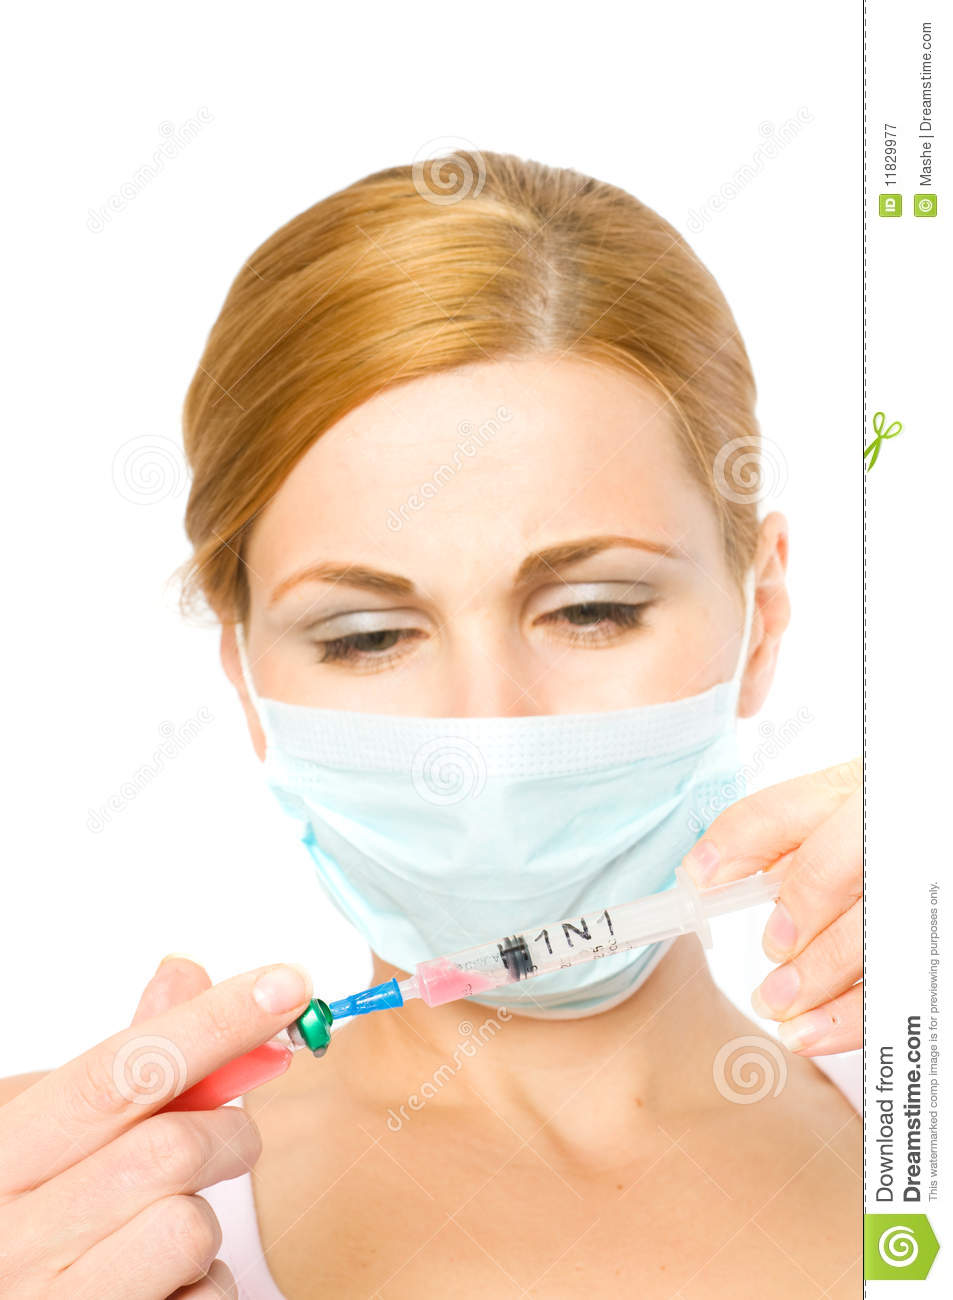mask: (258, 687, 746, 1015)
